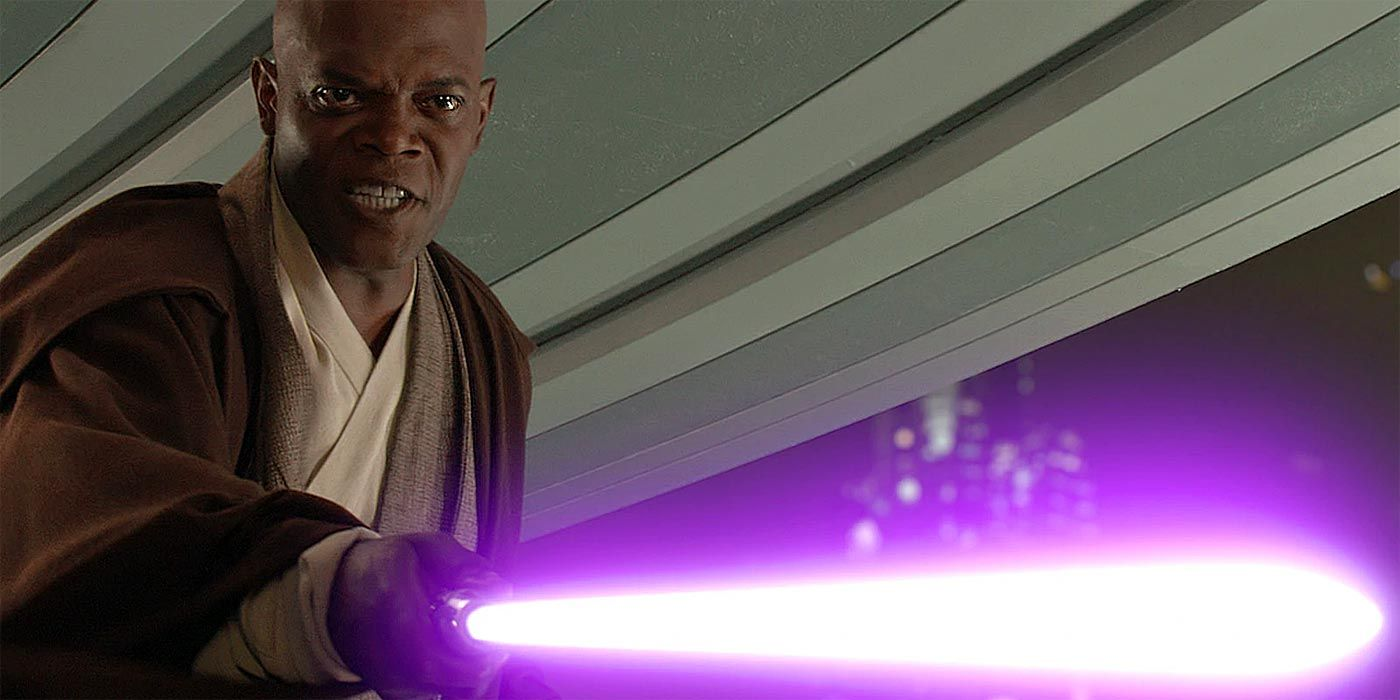lightsaber: (236, 439, 1400, 700)
